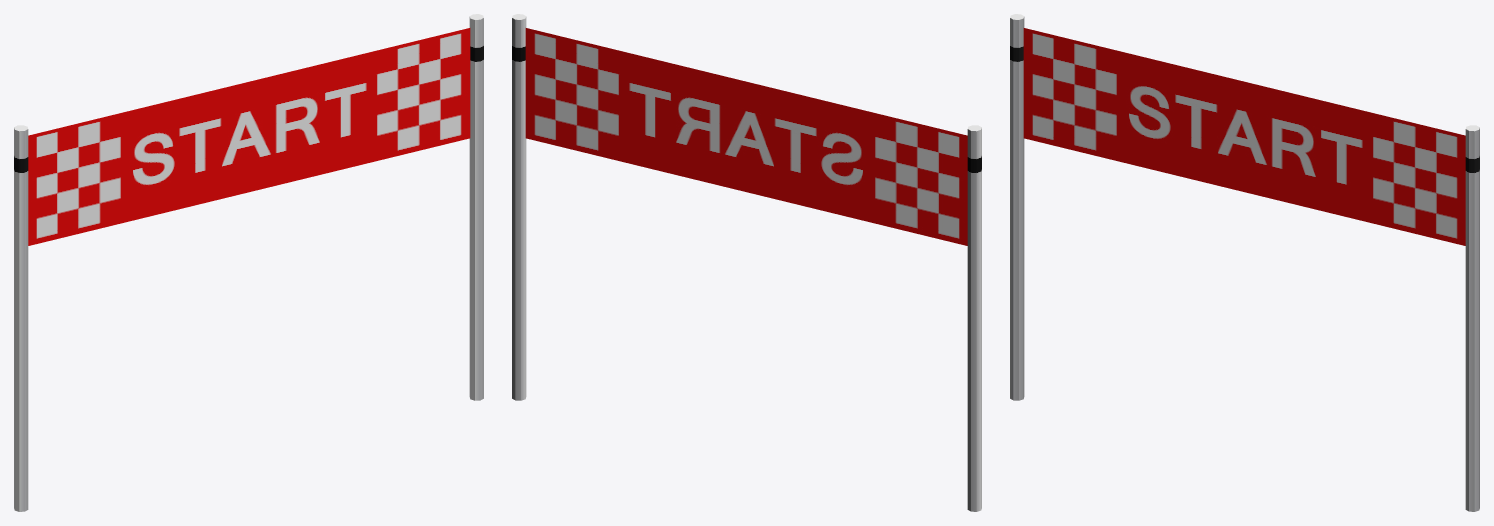
Rendered from Start.fbx.
3 renders of one model, left to right at view 1: azimuth 30°, elevation 25°; view 2: azimuth 150°, elevation 25°; view 3: azimuth 330°, elevation 25°, orthographic.
Visible parts, largest first — view 1: pPlane2; view 2: pPlane2; view 3: pPlane2.
Boxes of the visible parts, left/top/right/bottom form: pPlane2: left=14, top=14, right=483, bottom=511; pPlane2: left=512, top=14, right=981, bottom=511; pPlane2: left=1010, top=14, right=1479, bottom=511.
Bounding box in the file's own units: 14.97 × 11.63 × 0.4093.
1 material, 1 textured.
